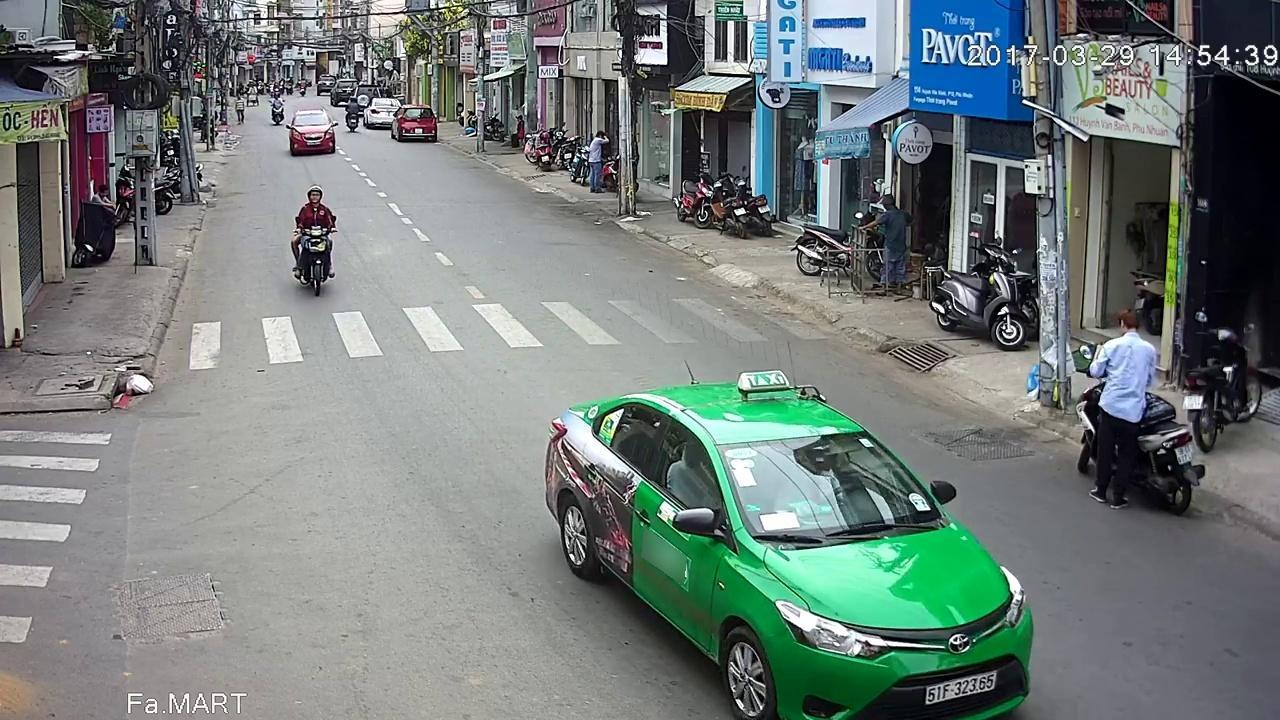xe hoi: (544, 337, 1031, 720), (283, 111, 336, 158), (391, 104, 438, 142)
xe may: (294, 188, 342, 301)
